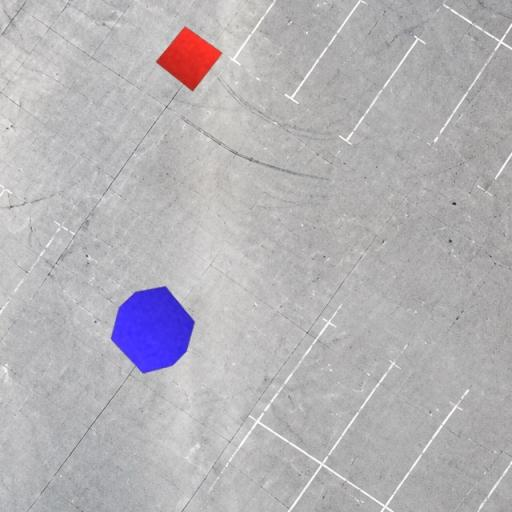RED_SQUARE: (155, 26, 223, 92)
